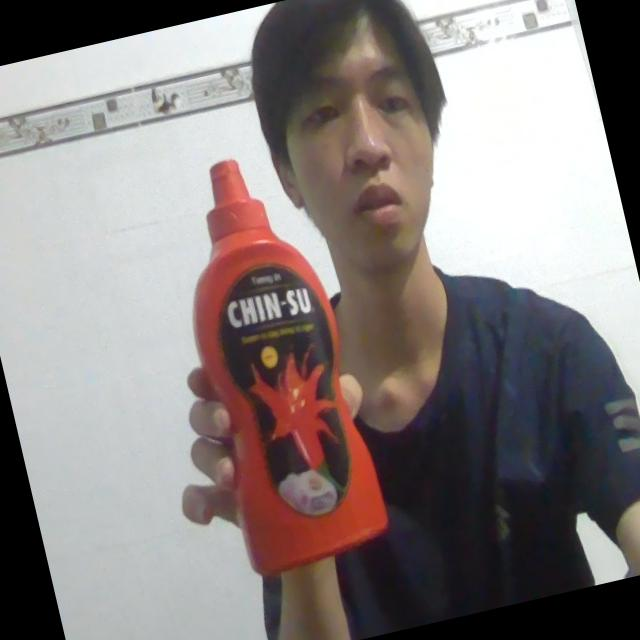tuong ot chinsu: (148, 136, 404, 584)
